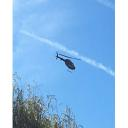helicopter: (57, 51, 83, 74)
